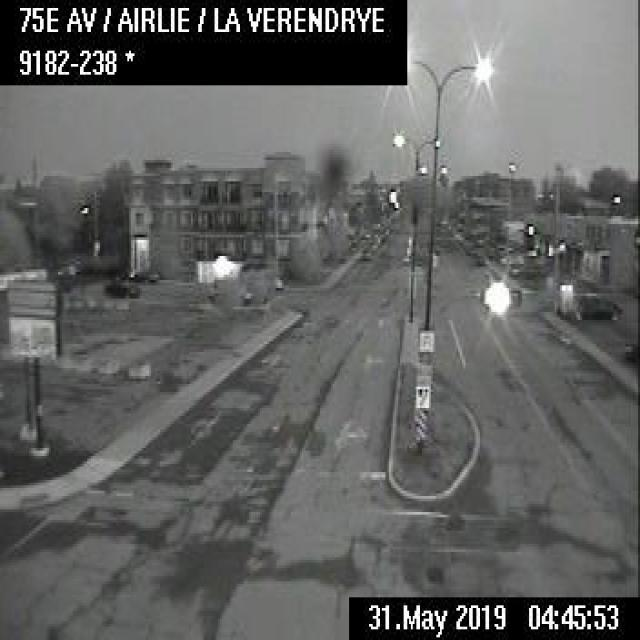vehicle: (574, 291, 621, 324), (104, 272, 138, 296)
